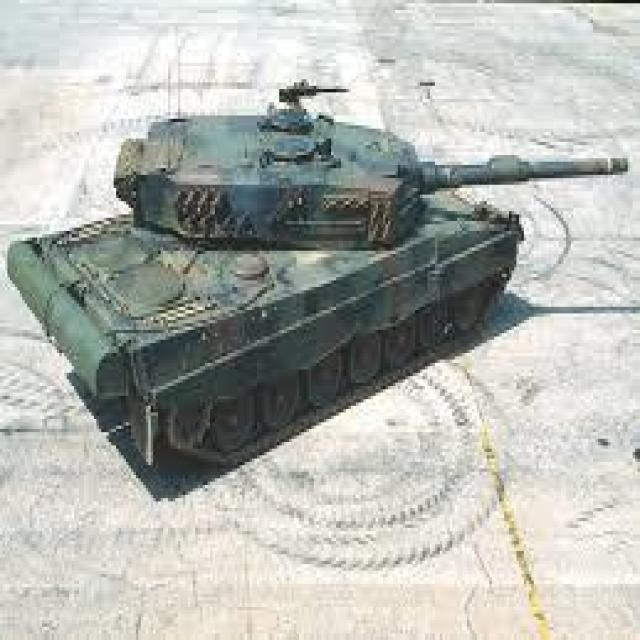Tanks: (6, 96, 570, 511)
